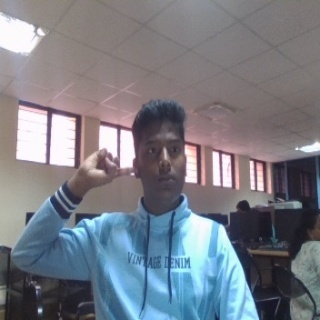Deaf: (74, 147, 137, 188)
Face: (132, 98, 187, 209)
